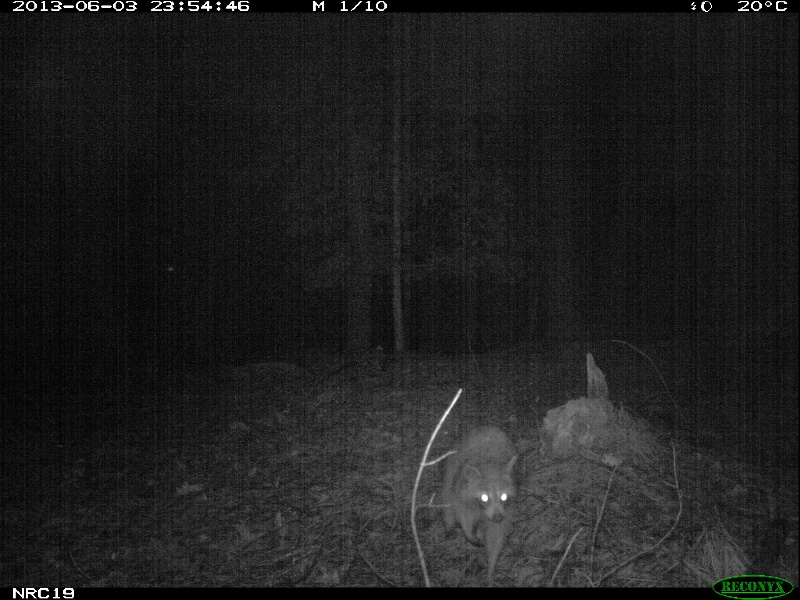raccoon: (438, 423, 524, 579)
